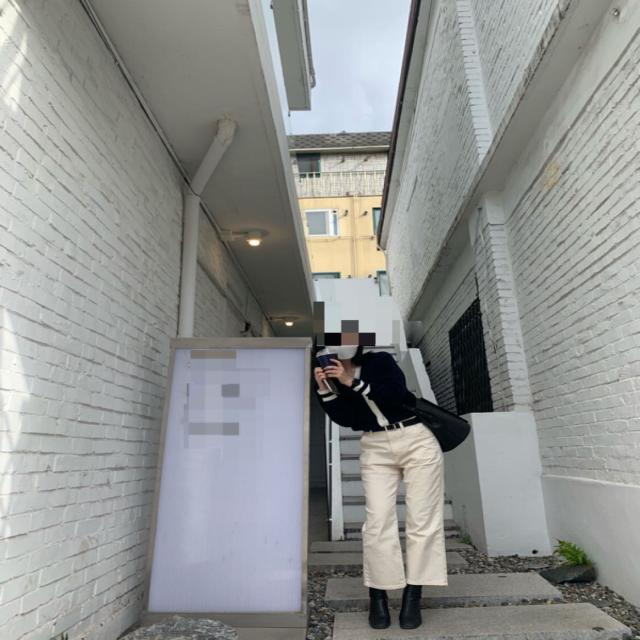cardigan: (317, 349, 419, 434)
cottonpants: (358, 421, 448, 590)
